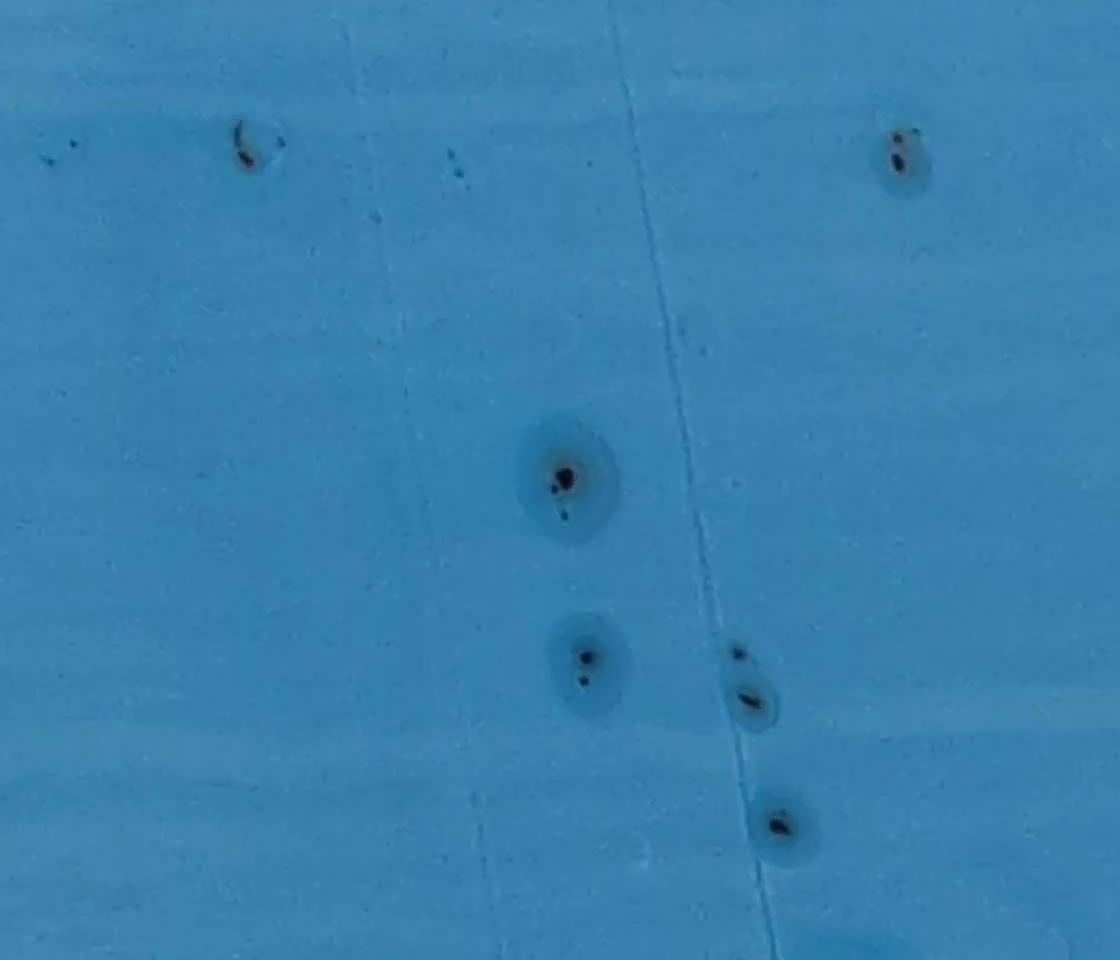scratch: (222, 120, 264, 173), (729, 685, 772, 719)
